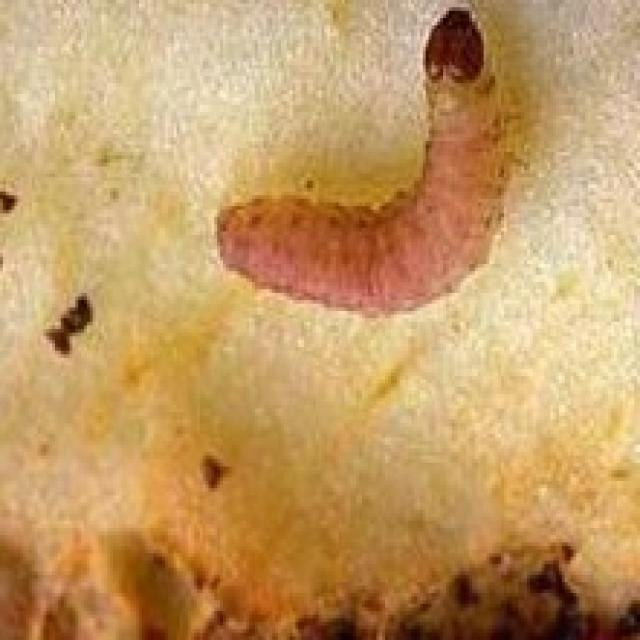peach borer: (207, 3, 531, 332)
